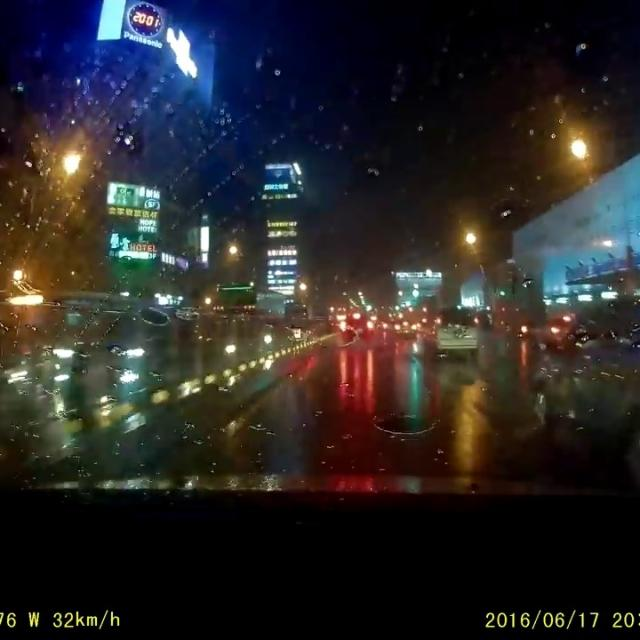Car: (533, 292, 639, 427), (50, 309, 171, 392), (213, 323, 296, 361), (425, 304, 482, 355), (338, 313, 371, 337), (394, 315, 416, 337)
